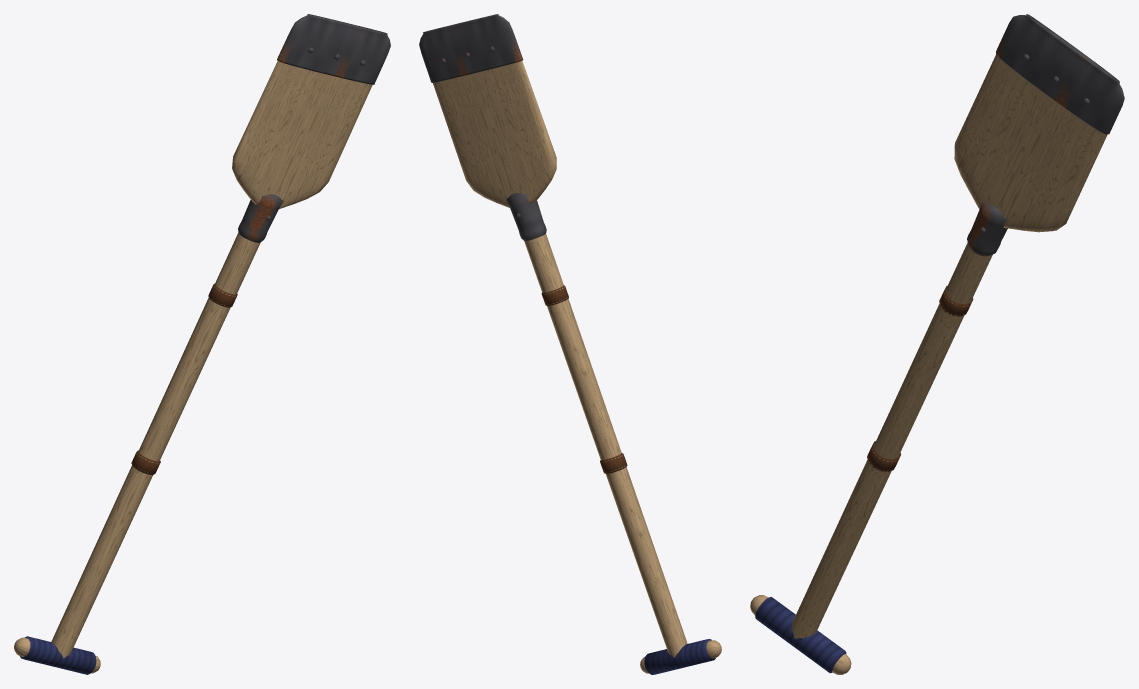
File: prop-spade.glb
The picture shows the model from 3 angles, left to right: view 1: azimuth 30°, elevation 25°; view 2: azimuth 150°, elevation 25°; view 3: azimuth 330°, elevation 25°; orthographic projection. The views are drawn at different scales.
Visible parts, largest first — view 1: spade; view 2: spade; view 3: spade.
Boxes of the visible parts, box(x1,y1,x2,y2) form: spade: box(14, 14, 390, 674); spade: box(419, 14, 721, 674); spade: box(750, 14, 1124, 674).
Size of the model in its own units: 0.5491 by 0.9549 by 0.102.
4 materials, 4 textured.
